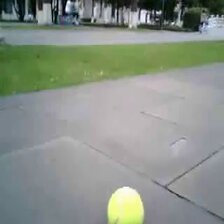tennis: (106, 186, 145, 224)
